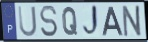A: (101, 6, 124, 37)
J: (82, 4, 101, 39)
N: (122, 4, 143, 38)
Q: (62, 6, 79, 37)
S: (38, 4, 59, 38)
U: (17, 5, 38, 38)
